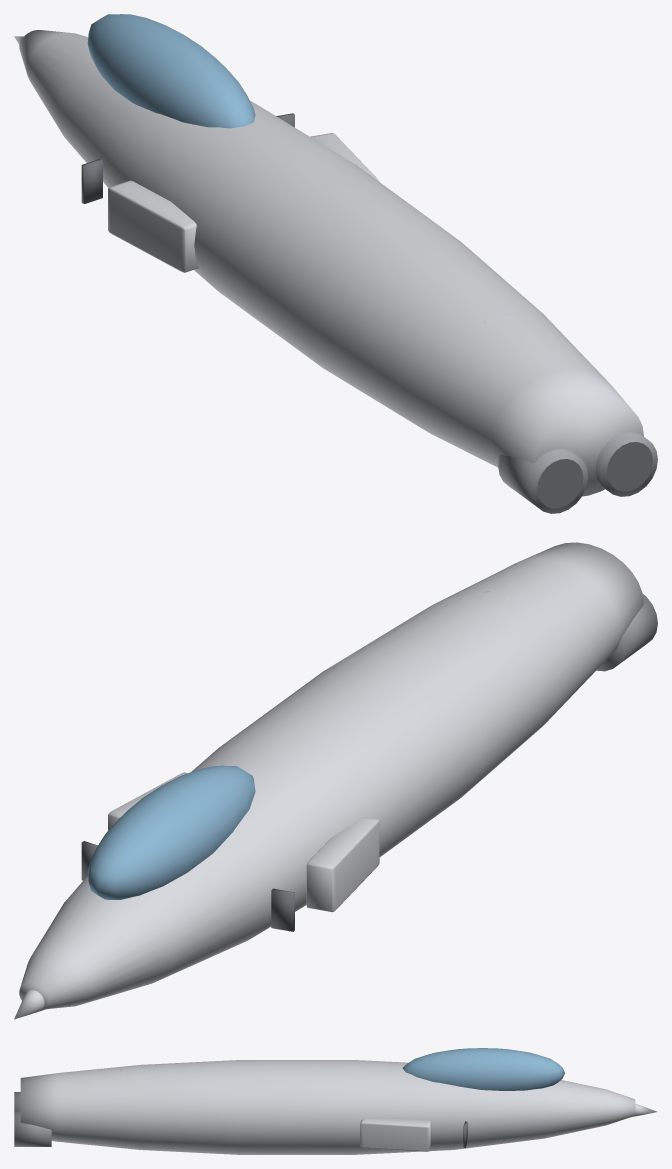
File: f4_body.glb
3 views of the same model, one above another, from view 1: azimuth 30°, elevation 25°; view 2: azimuth 150°, elevation 25°; view 3: azimuth 270°, elevation 25° (orthographic). The views are drawn at different scales.
Visible parts, largest first — view 1: f4_body; view 2: f4_body; view 3: f4_body.
Part boxes in pixels (x1,y1,x2,y2): f4_body: [14, 14, 657, 513]; f4_body: [14, 542, 657, 1019]; f4_body: [14, 1048, 657, 1154].
Size of the model in its own units: 1.75 by 1.31 by 7.8.
